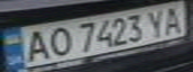2: (109, 14, 130, 47)
3: (124, 11, 148, 43)
4: (93, 16, 115, 50)
7: (72, 19, 96, 53)
A: (18, 27, 54, 63), (160, 2, 190, 35)
O: (42, 25, 75, 57)
Y: (142, 7, 172, 38)
